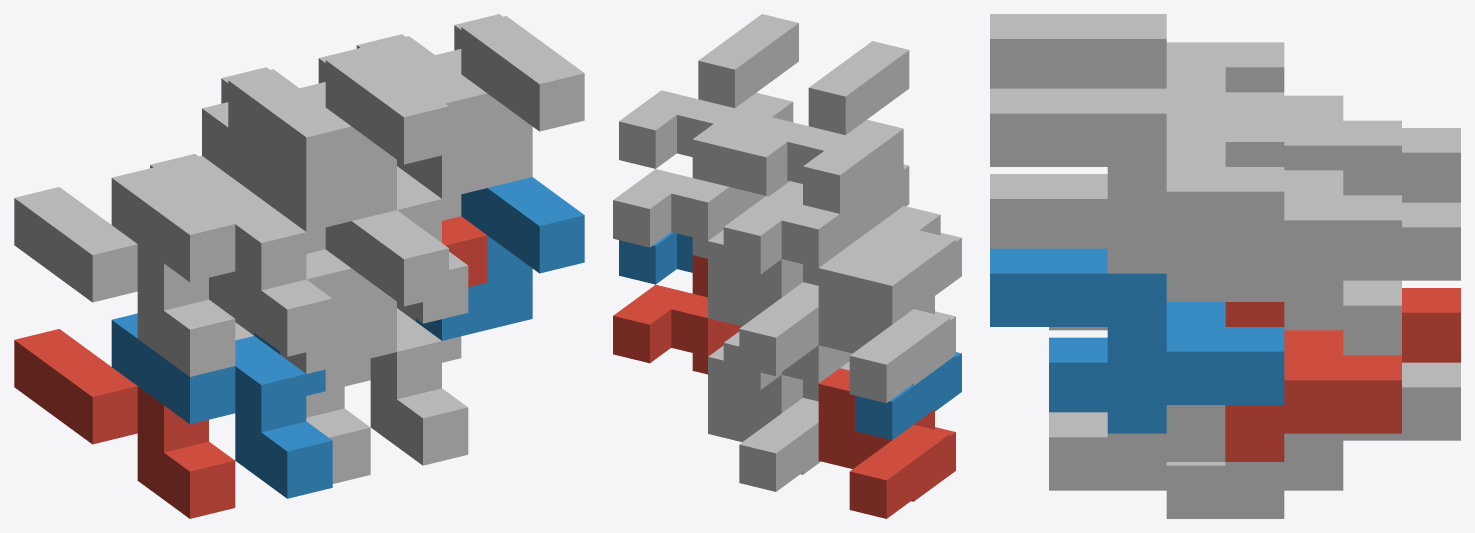
Rendered from tiling.obj.
The picture shows the model from 3 angles, left to right: view 1: azimuth 30°, elevation 25°; view 2: azimuth 150°, elevation 25°; view 3: azimuth 270°, elevation 25°; orthographic projection. The views are drawn at different scales.
Parts seen in each view (by area): view 1: copy_1_domain_4, copy_1_domain_3, copy_1_domain_2, copy_1_domain_1, copy_2_domain_4, copy_2_domain_8, copy_2_domain_3, copy_2_domain_2, copy_2_domain_6, copy_1_domain_6, copy_2_domain_7, copy_1_domain_8 (+3 smaller); view 2: copy_2_domain_3, copy_2_domain_4, copy_2_domain_7, copy_2_domain_8, copy_1_domain_3, copy_1_domain_1, copy_1_domain_4, copy_1_domain_5, copy_1_domain_7, copy_2_domain_5, copy_1_domain_2, copy_2_domain_1 (+3 smaller); view 3: copy_2_domain_8, copy_2_domain_6, copy_2_domain_7, copy_2_domain_4, copy_2_domain_5, copy_1_domain_5, copy_2_domain_3, copy_1_domain_6, copy_2_domain_2, copy_1_domain_7, copy_1_domain_2, copy_2_domain_1 (+3 smaller).
Part boxes in pixels (<box>): copy_1_domain_4: <box>111,147,332,356</box>; copy_1_domain_3: <box>14,156,235,376</box>; copy_1_domain_2: <box>111,313,332,498</box>; copy_1_domain_1: <box>14,329,235,518</box>; copy_2_domain_4: <box>280,47,448,231</box>; copy_2_domain_8: <box>416,14,584,198</box>; copy_2_domain_3: <box>183,67,351,204</box>; copy_2_domain_2: <box>280,210,448,373</box>; copy_2_domain_6: <box>416,177,584,340</box>; copy_1_domain_6: <box>325,305,468,465</box>; copy_2_domain_7: <box>356,34,487,149</box>; copy_1_domain_8: <box>397,160,468,323</box>; copy_2_domain_3: <box>723,119,903,285</box>; copy_2_domain_4: <box>729,41,909,220</box>; copy_2_domain_7: <box>613,92,793,258</box>; copy_2_domain_8: <box>619,14,798,193</box>; copy_1_domain_3: <box>818,252,955,403</box>; copy_1_domain_1: <box>818,368,955,518</box>; copy_1_domain_4: <box>855,183,961,324</box>; copy_1_domain_5: <box>708,345,820,491</box>; copy_1_domain_7: <box>708,230,818,376</box>; copy_2_domain_5: <box>613,255,741,374</box>; copy_1_domain_2: <box>855,352,961,440</box>; copy_2_domain_1: <box>723,331,852,401</box>; copy_2_domain_8: <box>990,88,1284,273</box>; copy_2_domain_6: <box>990,248,1284,433</box>; copy_2_domain_7: <box>1166,117,1401,301</box>; copy_2_domain_4: <box>990,14,1284,116</box>; copy_2_domain_5: <box>1225,302,1401,461</box>; copy_1_domain_5: <box>1166,362,1460,518</box>; copy_2_domain_3: <box>1166,42,1401,195</box>; copy_1_domain_6: <box>1049,405,1225,490</box>; copy_2_domain_2: <box>990,174,1107,248</box>; copy_1_domain_7: <box>1284,202,1460,330</box>; copy_1_domain_2: <box>1049,337,1107,412</box>; copy_2_domain_1: <box>1343,280,1401,355</box>.
Size of the model in its own units: 9 by 9 by 8.
